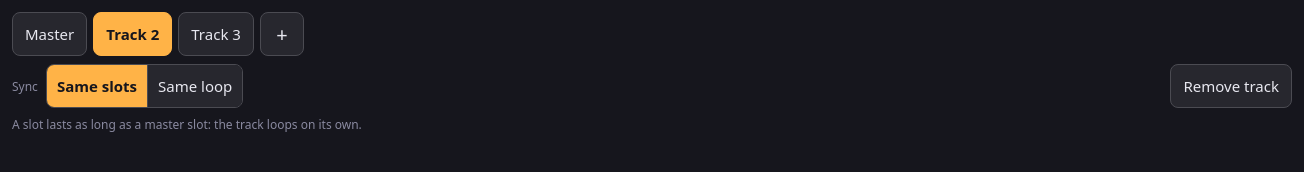
TrackTabs › is not armed any more when coming back to the tab (WebKit buttons take no focus, so nothing blurs)
The image size is (1304, 172).
Click the button "Remove track": (1231, 86) [1170, 64, 1292, 108]
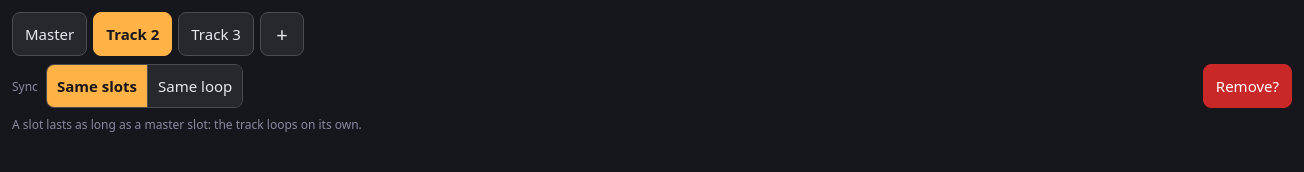
Click the tab "Master": (50, 34) [12, 12, 87, 56]
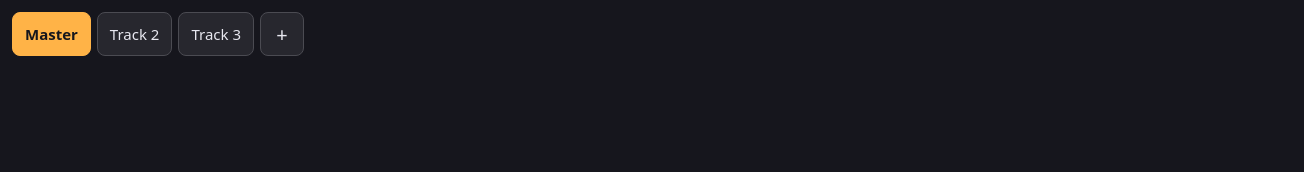
Click the tab "Track 2": (135, 34) [97, 12, 172, 56]
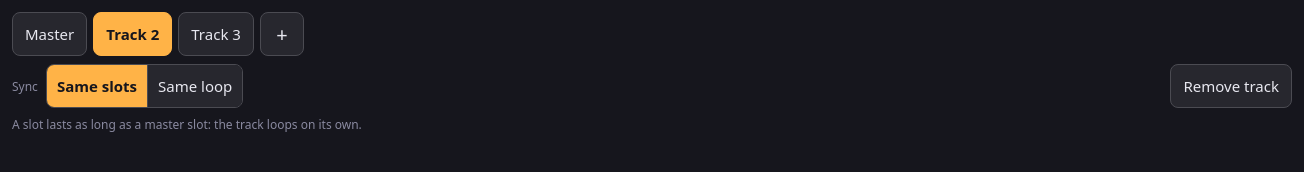
Expected: the button "Remove?" is not shown
Expected: the button "Remove track" is shown, [1170, 64, 1292, 108]
